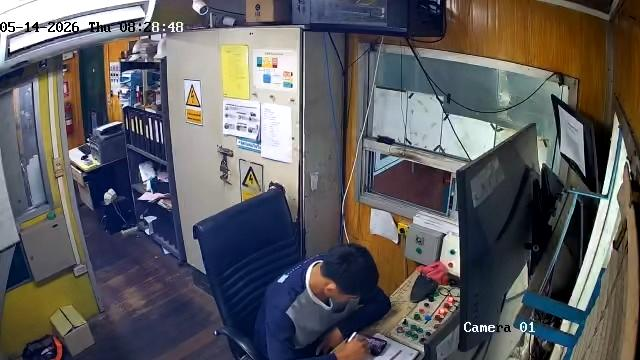Head: (320, 243, 382, 304)
People: (255, 243, 392, 360)
Phone: (346, 330, 387, 354)
